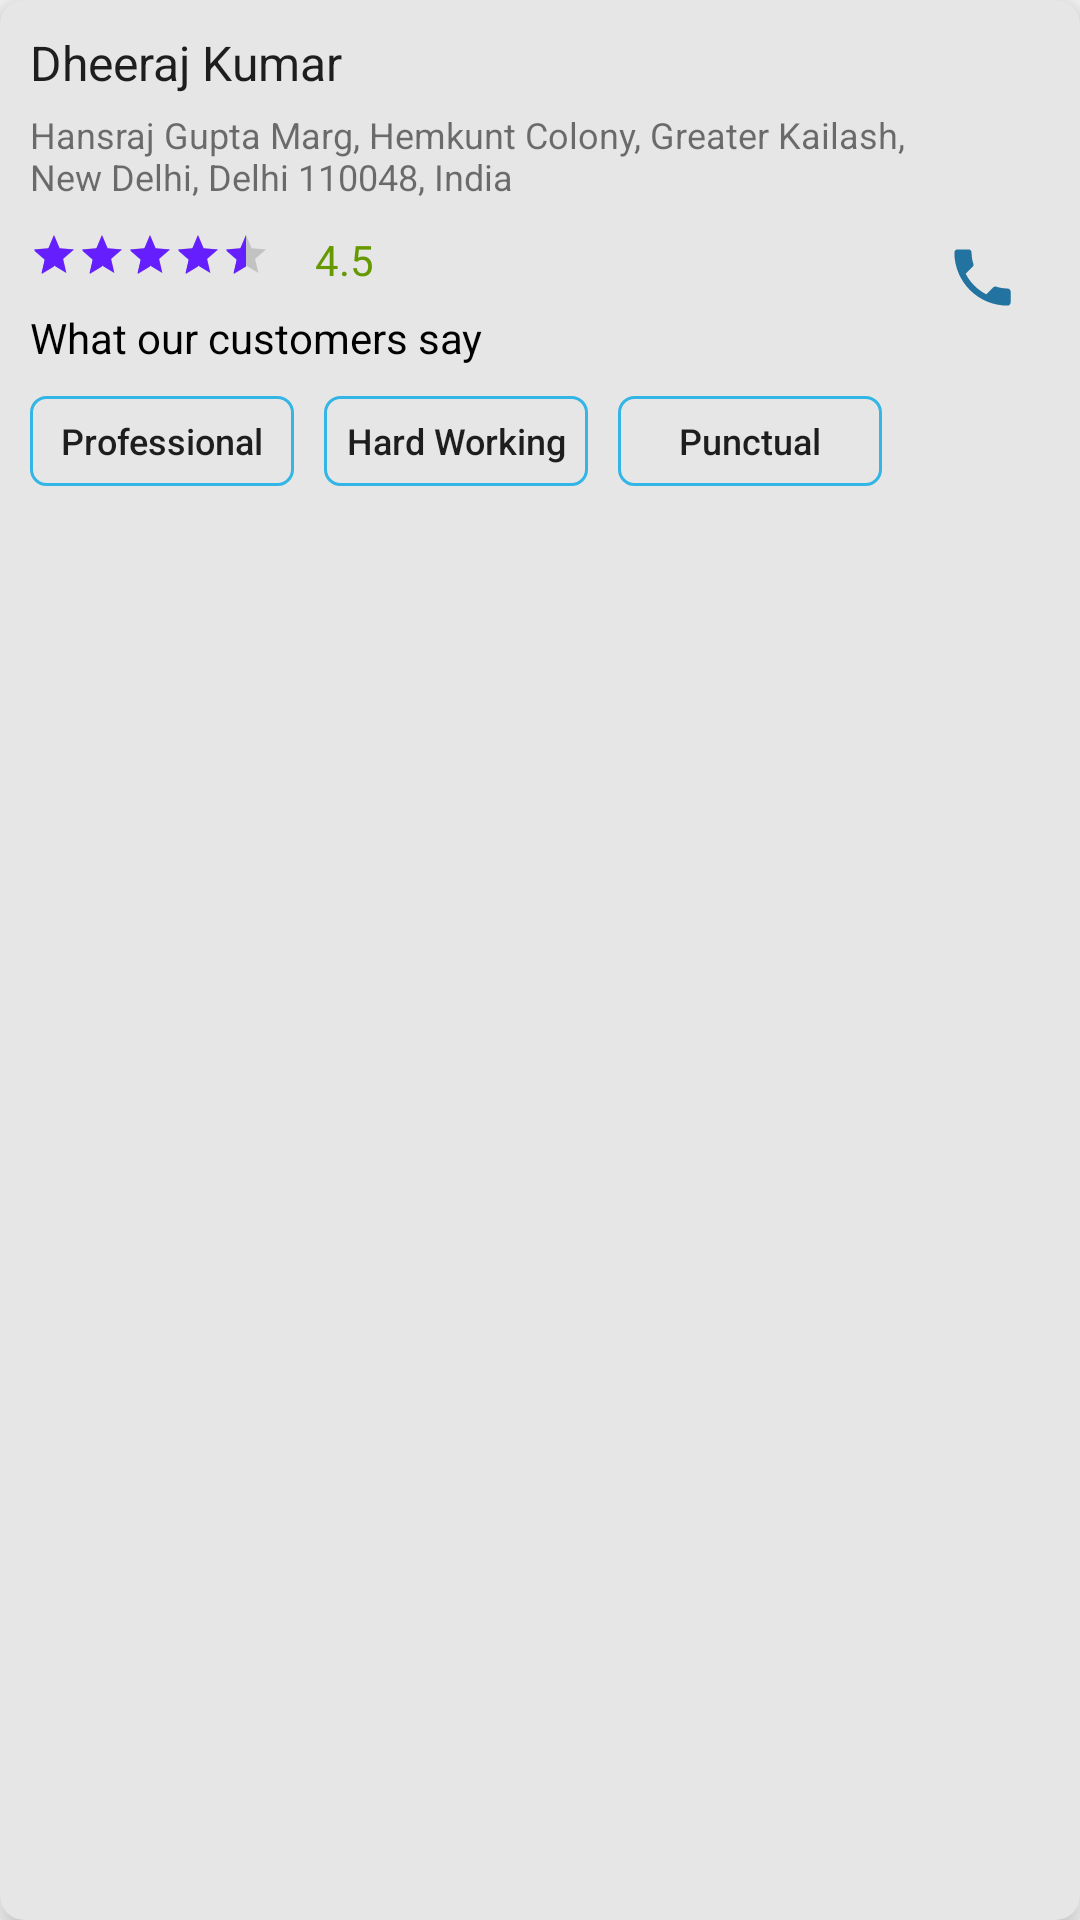

Where icons sit on this 1080 × 1920 app screen, as BBox(x1, y1, x2, y2):
add phone: BBox(954, 249, 1011, 306)
